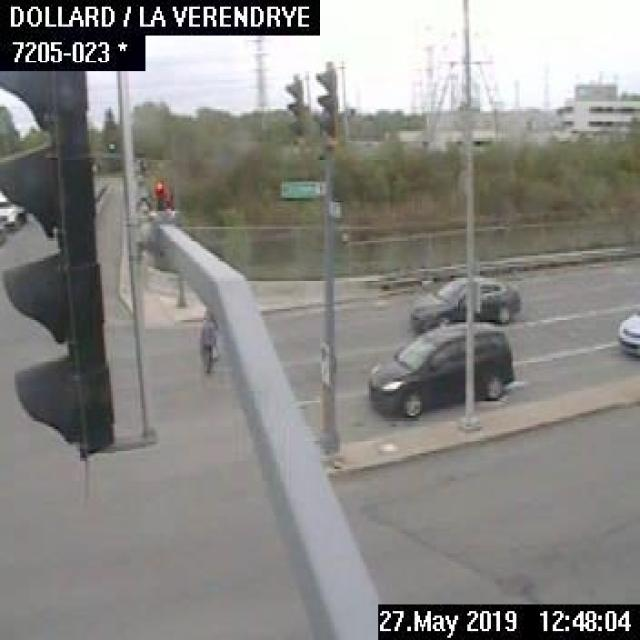pedestrian: (196, 309, 216, 373)
vehicle: (367, 318, 524, 418), (408, 269, 520, 331), (615, 311, 638, 356), (0, 198, 29, 233)
